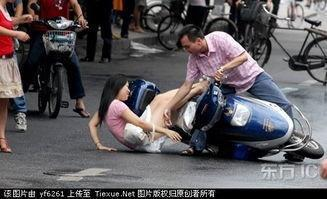Fall-Detected: (86, 66, 210, 157)
